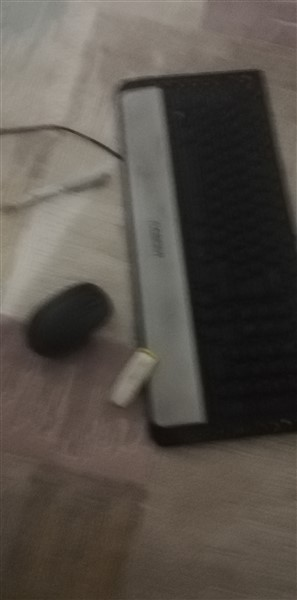flash disk: (104, 348, 163, 427)
klavye: (117, 75, 297, 440)
mouse: (24, 280, 115, 368)
pilot kalem: (1, 166, 118, 228)
